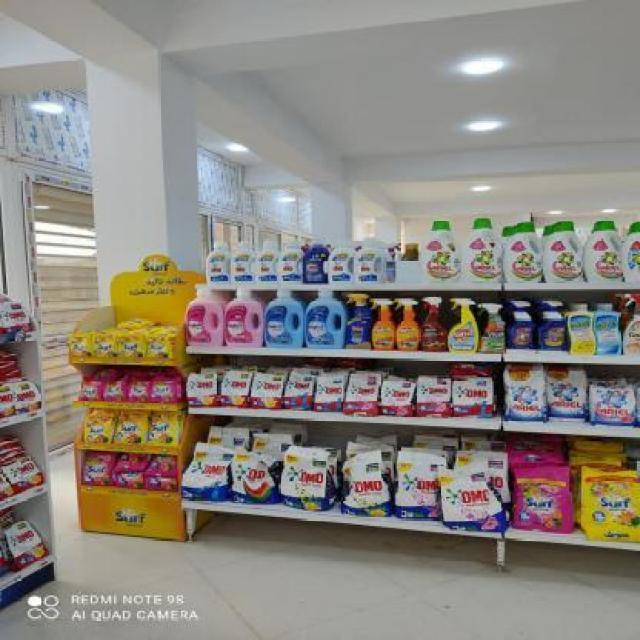Detergent: (455, 206, 507, 283), (540, 217, 589, 283), (419, 214, 463, 283), (502, 215, 544, 283), (500, 365, 549, 423), (584, 214, 624, 283), (589, 376, 640, 428), (549, 368, 592, 424)
